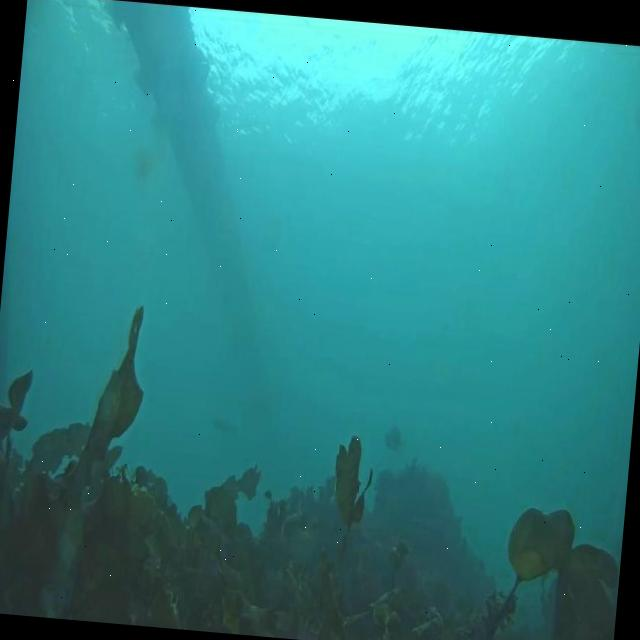fish: (211, 414, 243, 440)
